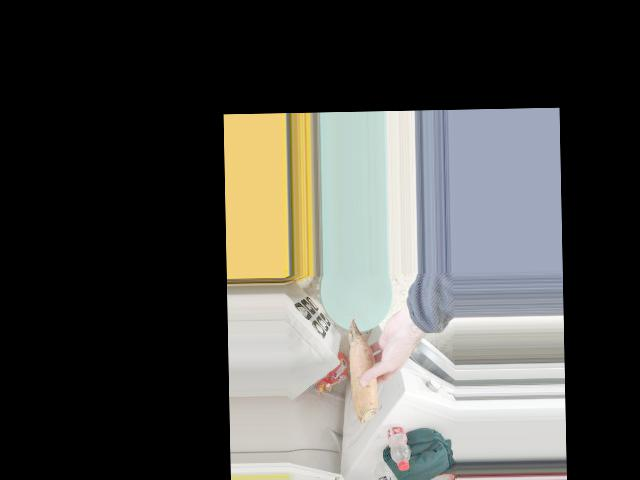sweet_potato: (341, 320, 384, 427)
